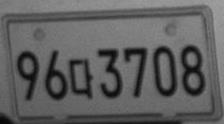0: (152, 45, 177, 97)
3: (97, 48, 123, 98)
6: (44, 50, 68, 100)
7: (123, 47, 148, 97)
8: (179, 44, 206, 97)
9: (16, 50, 39, 100)
다: (68, 58, 93, 99)
